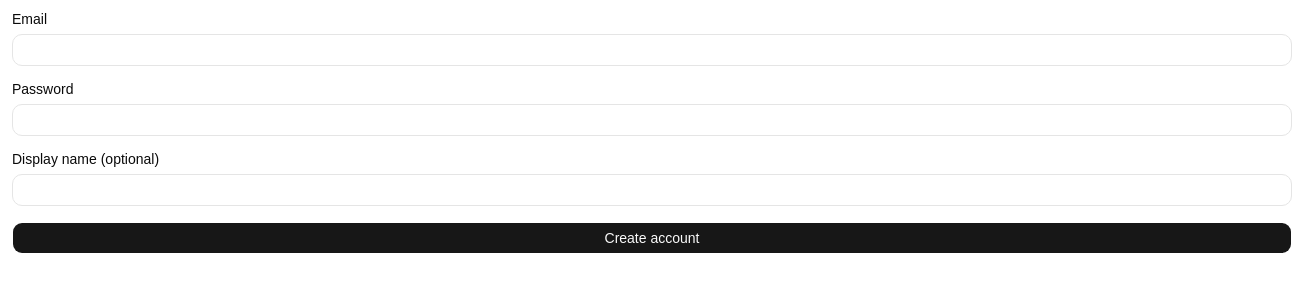
RegisterForm › shows the email field error on a 409 conflict
In the field labelled "Email": (652, 50) [12, 34, 1292, 66], type "taken@example.com"
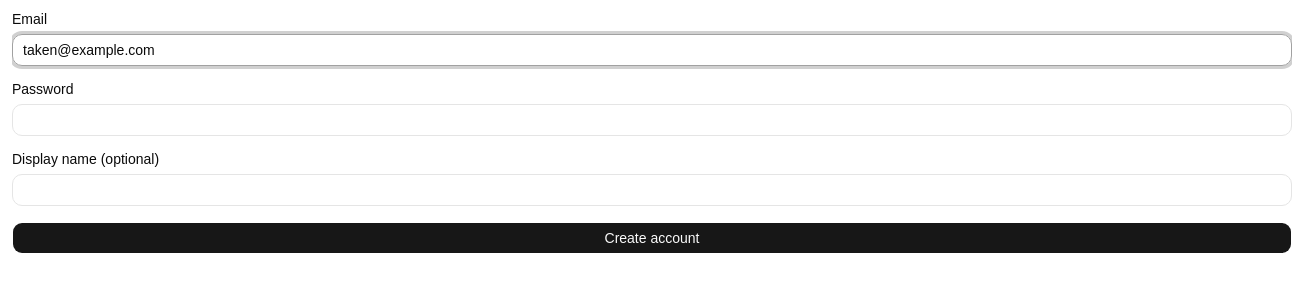
In the password field labelled "Password": (652, 120) [12, 104, 1292, 136], type "longenough1"
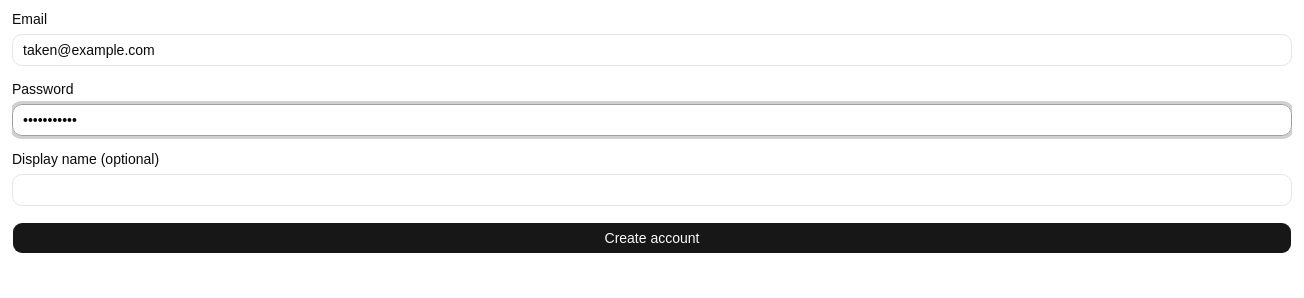
Click the button "Create account": (652, 238) [12, 222, 1292, 254]
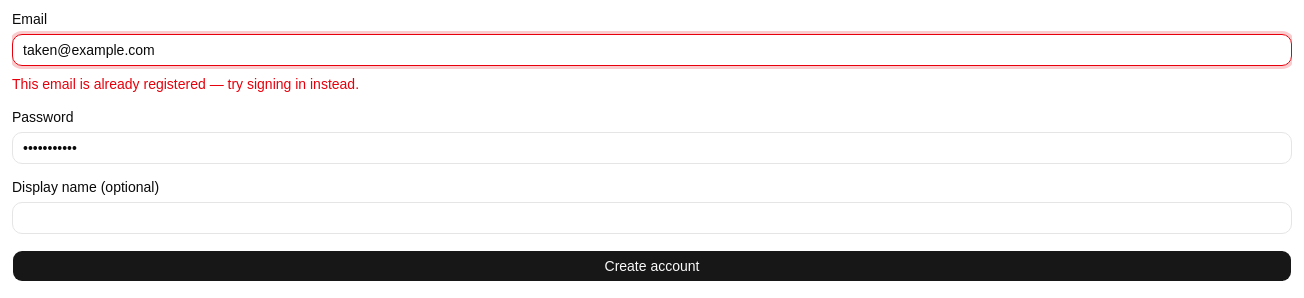
Expected: the text "This email is already registered — try signing in instead." is shown, [12, 76, 359, 92]
